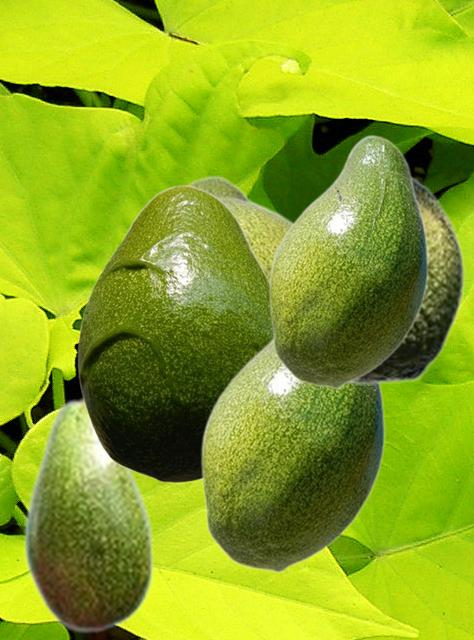avocado: (77, 184, 271, 482), (200, 338, 385, 572), (272, 172, 464, 384), (268, 134, 428, 388), (23, 393, 154, 634), (185, 175, 292, 276)
